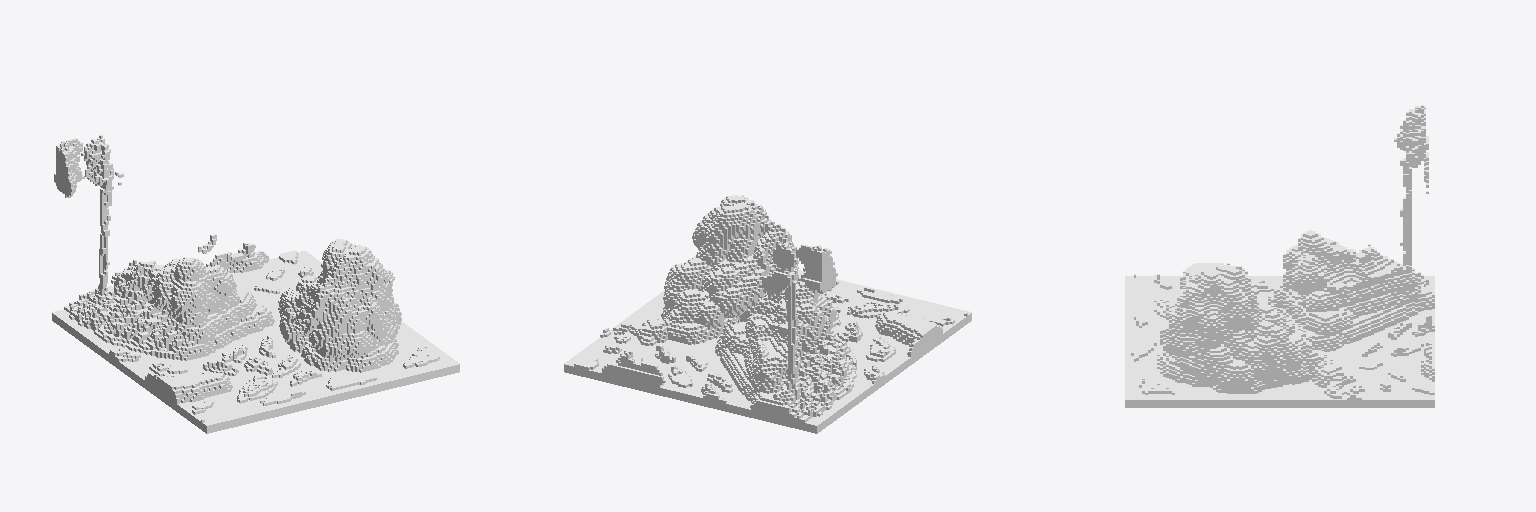
The model's file is Lava_stuff-37.obj.
The picture shows the model from 3 angles: view 1: azimuth 30°, elevation 25°; view 2: azimuth 150°, elevation 25°; view 3: azimuth 270°, elevation 25°; orthographic projection.
Visible parts, largest first — view 1: object 1; view 2: object 1; view 3: object 1.
Boxes of the visible parts, x1,y1,x2,y2 form: object 1: [52, 135, 459, 433]; object 1: [564, 195, 971, 433]; object 1: [1125, 105, 1434, 407].
Bounding box in the file's own units: 20 × 13.6 × 21.2.